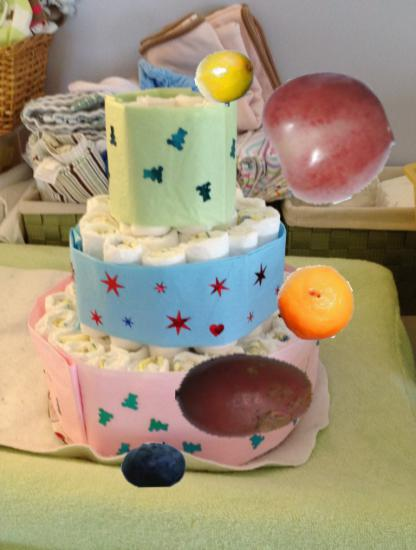Blueberry: (121, 432, 187, 498)
Cherry: (262, 69, 396, 203)
Lemon: (277, 264, 355, 342)
Maracuja: (195, 49, 256, 110)
Potato: (175, 326, 316, 467)
